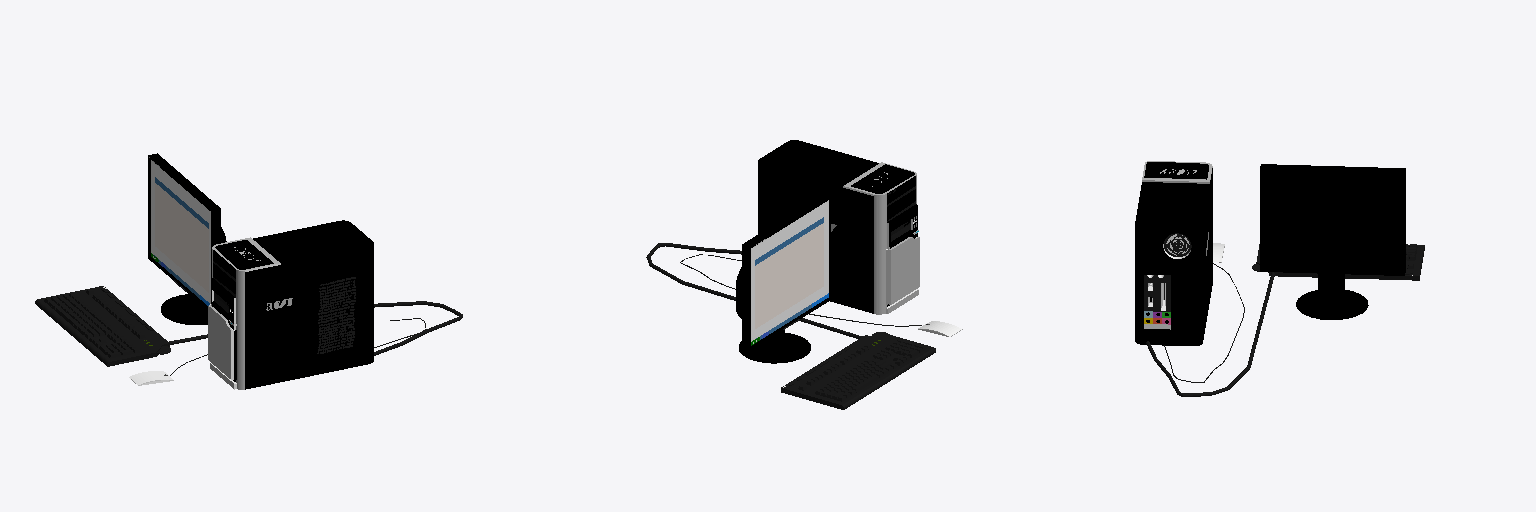
Rendered from computer.obj.
3 renders of one model, left to right at view 1: azimuth 30°, elevation 25°; view 2: azimuth 150°, elevation 25°; view 3: azimuth 270°, elevation 25°, orthographic.
Visible parts, largest first — view 1: Mesh49 Group1 Model, Mesh52 Group1 Model, Mesh5 keyboard1 Group2 Group1 Model, Mesh51 Group1 Model, Mesh63 Group1 Model; view 2: Mesh49 Group1 Model, Mesh52 Group1 Model, Mesh5 keyboard1 Group2 Group1 Model, Mesh51 Group1 Model, Mesh63 Group1 Model; view 3: Mesh52 Group1 Model, Mesh49 Group1 Model, Mesh51 Group1 Model, Mesh5 keyboard1 Group2 Group1 Model, Mesh63 Group1 Model.
Part boxes in pixels (bbox=[...]): Mesh49 Group1 Model: bbox=[208, 220, 373, 389]; Mesh52 Group1 Model: bbox=[148, 153, 226, 309]; Mesh5 keyboard1 Group2 Group1 Model: bbox=[35, 286, 169, 366]; Mesh51 Group1 Model: bbox=[161, 294, 207, 324]; Mesh63 Group1 Model: bbox=[169, 301, 462, 355]; Mesh49 Group1 Model: bbox=[758, 140, 919, 314]; Mesh52 Group1 Model: bbox=[736, 194, 830, 350]; Mesh5 keyboard1 Group2 Group1 Model: bbox=[781, 335, 935, 409]; Mesh51 Group1 Model: bbox=[739, 330, 810, 363]; Mesh63 Group1 Model: bbox=[646, 243, 862, 338]; Mesh52 Group1 Model: bbox=[1260, 164, 1405, 275]; Mesh49 Group1 Model: bbox=[1135, 161, 1212, 345]; Mesh51 Group1 Model: bbox=[1296, 264, 1368, 319]; Mesh5 keyboard1 Group2 Group1 Model: bbox=[1256, 244, 1424, 280]; Mesh63 Group1 Model: bbox=[1146, 272, 1274, 396].
Size of the model in its own units: 35.32 by 13.98 by 27.94.